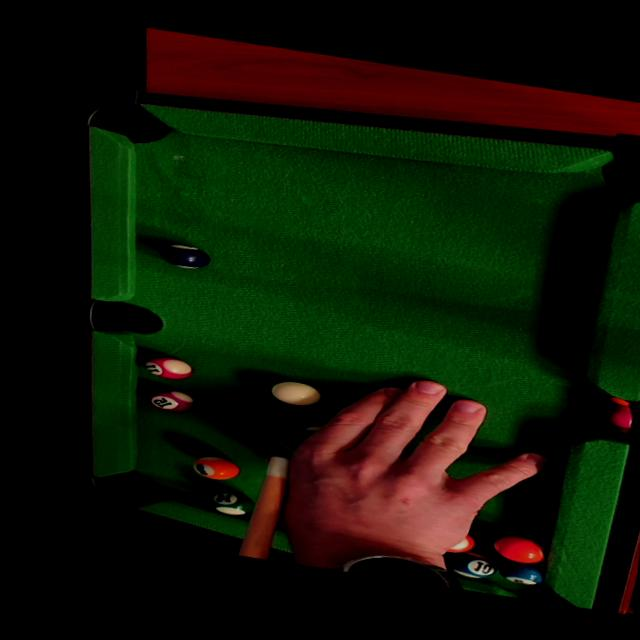cue ball: (262, 374, 328, 411)
other: (484, 527, 555, 569), (136, 347, 205, 385), (153, 238, 215, 273), (203, 485, 263, 521), (441, 547, 500, 583), (489, 554, 549, 586), (188, 449, 242, 484), (143, 382, 198, 414)
